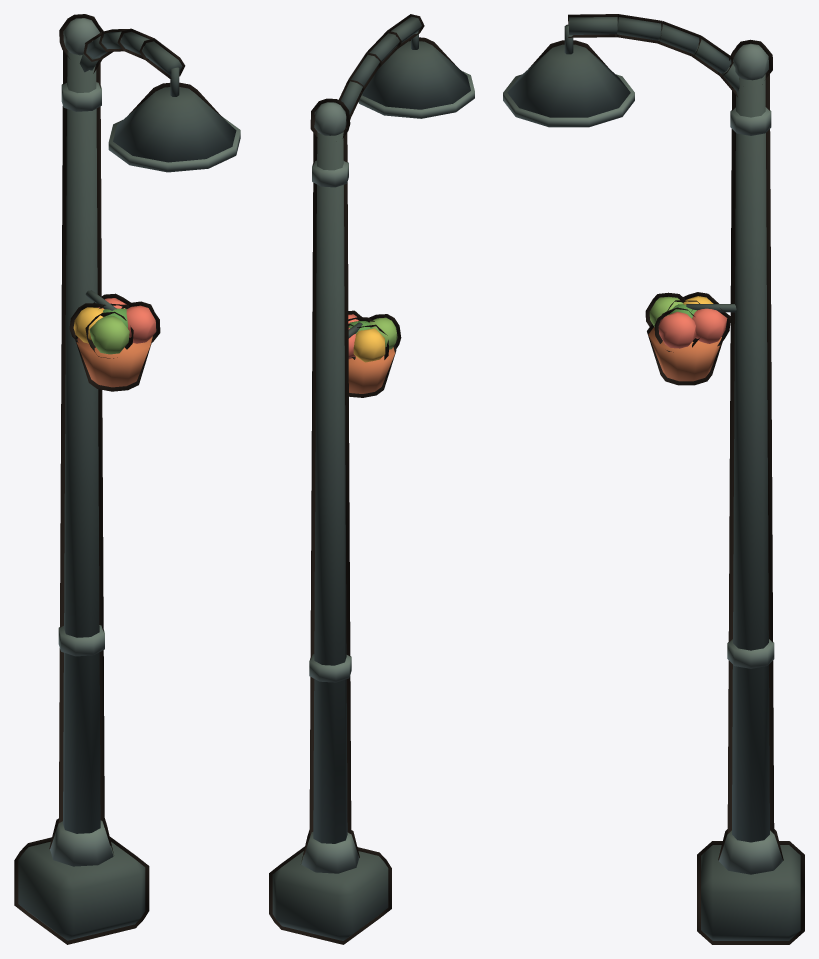
File: SokakLambasi.fbx
3 renders of one model, left to right at view 1: azimuth 30°, elevation 25°; view 2: azimuth 150°, elevation 25°; view 3: azimuth 270°, elevation 25°, orthographic. The views are drawn at different scales.
Parts seen in each view (by area): view 1: SokakLambasi; view 2: SokakLambasi; view 3: SokakLambasi.
Boxes of the visible parts, x1,y1,x2,y2 form: SokakLambasi: [14, 14, 240, 944]; SokakLambasi: [269, 14, 474, 944]; SokakLambasi: [503, 14, 804, 944].
Bounding box in the file's own units: 0.428 × 3.43 × 1.03.
Materials: 3 (1 with a texture image).
